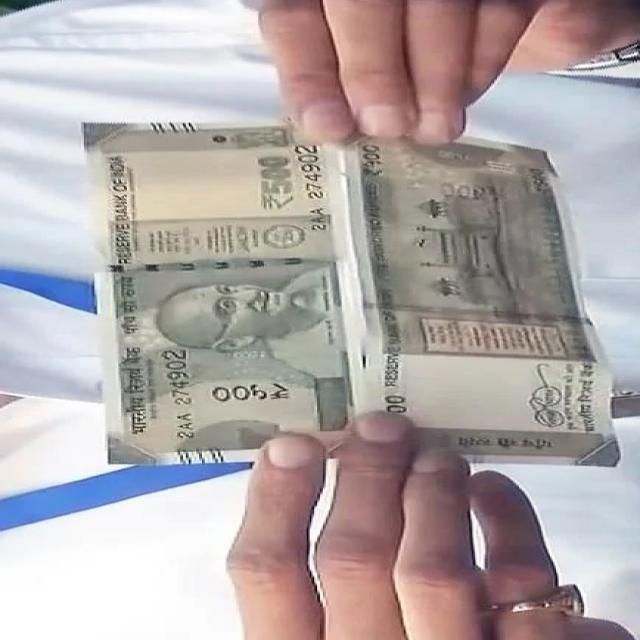500IndianRupees: (352, 134, 620, 460)
